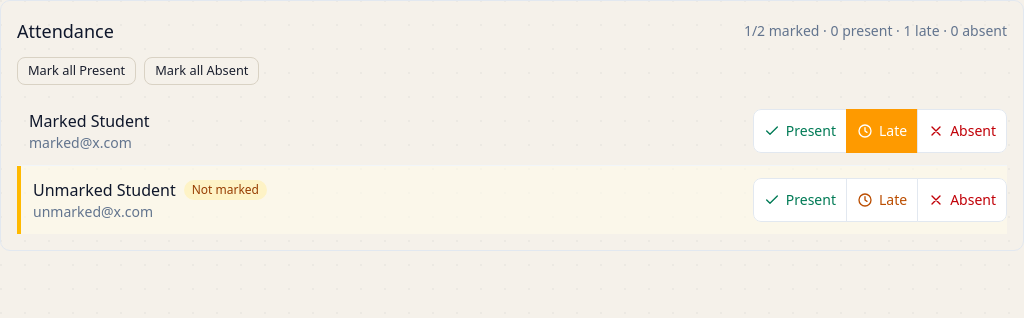
AttendanceSection (s12) › bulk failure surfaces a single banner and reverts
Expected: the text "Marked Student" is shown, [29,109,150,133]
What coordinates should you click on to do the following:
click the button "Mark all Present"
I would click on:
 (77, 71)
Its box is [17,57,136,85].
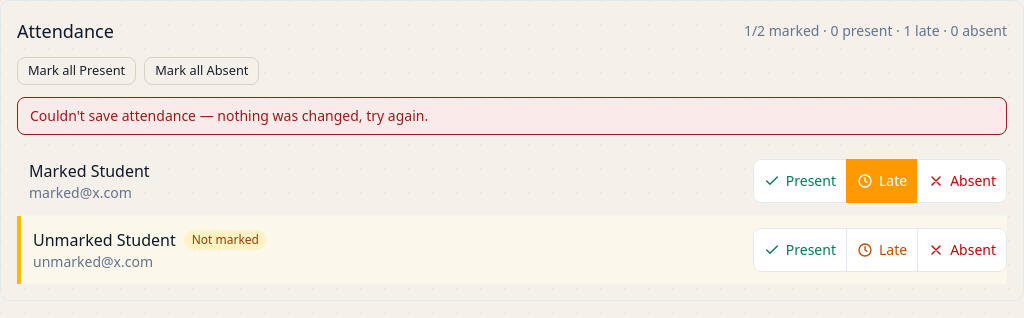
Now the message reads "Couldn't save attendance — nothing was changed, try again.", box [30,106,428,125]
